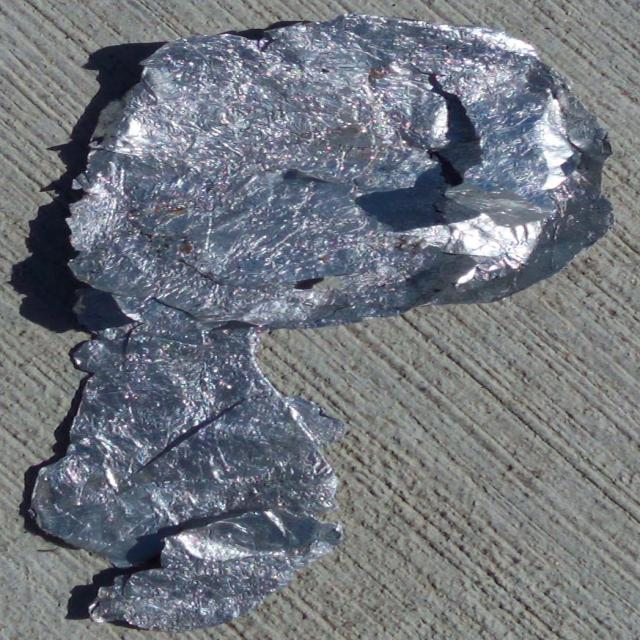litter: (28, 15, 625, 632)
